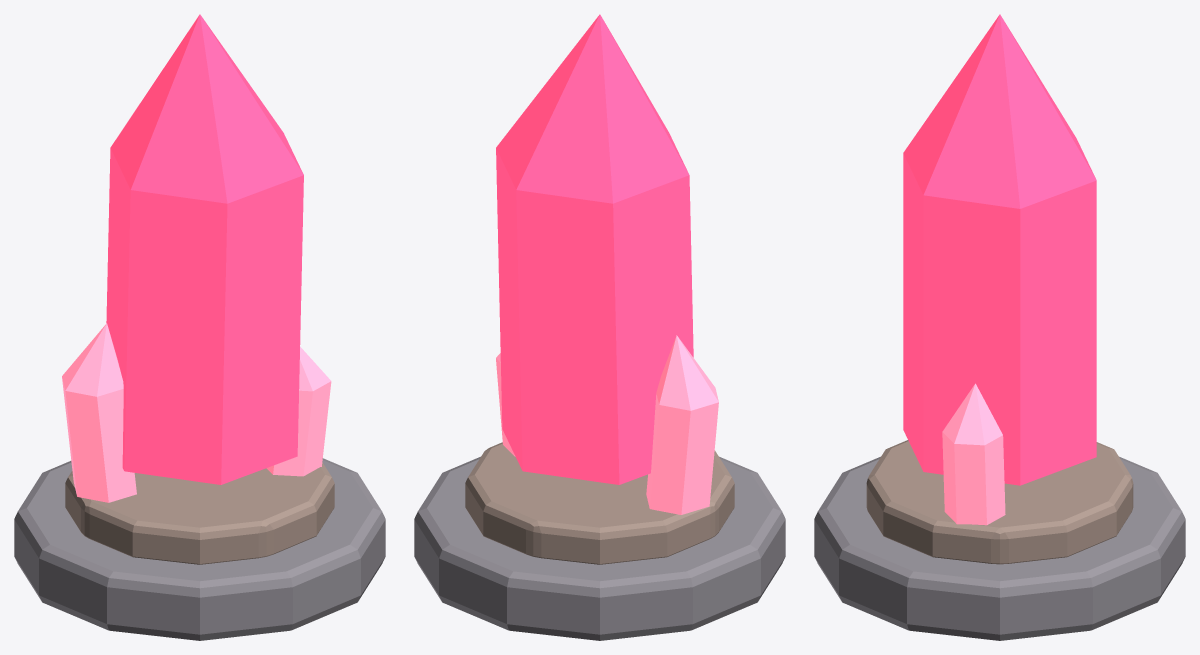
File: Storybook_MagicStone_A.fbx
3 views of the same model, side by side, from view 1: azimuth 30°, elevation 25°; view 2: azimuth 150°, elevation 25°; view 3: azimuth 270°, elevation 25° (orthographic).
Parts seen in each view (by area): view 1: Crystal.002, Pedestal.002, Pedestal_Ring.001, Crystal_Shard_A.001, Crystal_Shard_B.001; view 2: Crystal.002, Pedestal.002, Pedestal_Ring.001, Crystal_Shard_A.001; view 3: Crystal.002, Pedestal.002, Pedestal_Ring.001, Crystal_Shard_B.001.
Boxes of the visible parts, x1,y1,x2,y2 form: Crystal.002: [106, 14, 303, 484]; Pedestal.002: [14, 458, 385, 640]; Pedestal_Ring.001: [65, 462, 334, 564]; Crystal_Shard_A.001: [62, 323, 136, 502]; Crystal_Shard_B.001: [266, 346, 331, 476]; Crystal.002: [496, 14, 693, 484]; Pedestal.002: [414, 456, 785, 640]; Pedestal_Ring.001: [465, 442, 734, 564]; Crystal_Shard_A.001: [646, 335, 718, 514]; Crystal.002: [903, 14, 1096, 485]; Pedestal.002: [814, 456, 1185, 640]; Pedestal_Ring.001: [866, 440, 1133, 564]; Crystal_Shard_B.001: [942, 383, 1005, 525].
Bounding box in the file's own units: 1.82 × 2.99 × 1.82.
